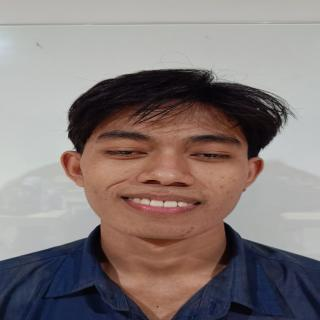Senang: (80, 92, 255, 251)
